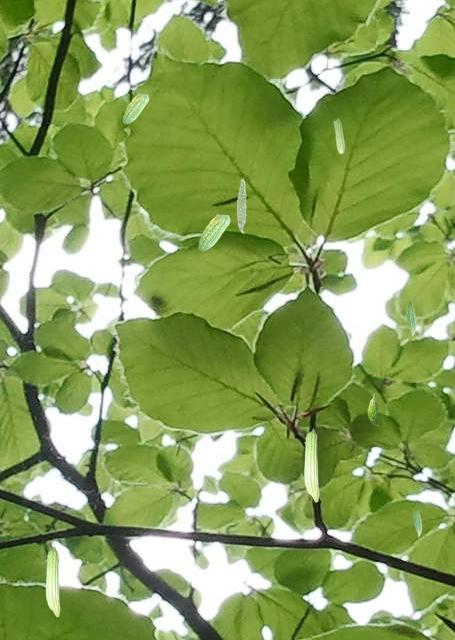ampalaya: (198, 213, 230, 251), (303, 428, 319, 502), (45, 546, 60, 617), (122, 93, 149, 124), (236, 178, 247, 233), (333, 117, 345, 154), (406, 299, 417, 337), (367, 393, 378, 426), (413, 505, 422, 537)
